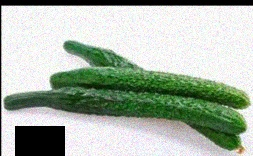cucumber: (65, 42, 248, 105), (2, 90, 244, 132)
